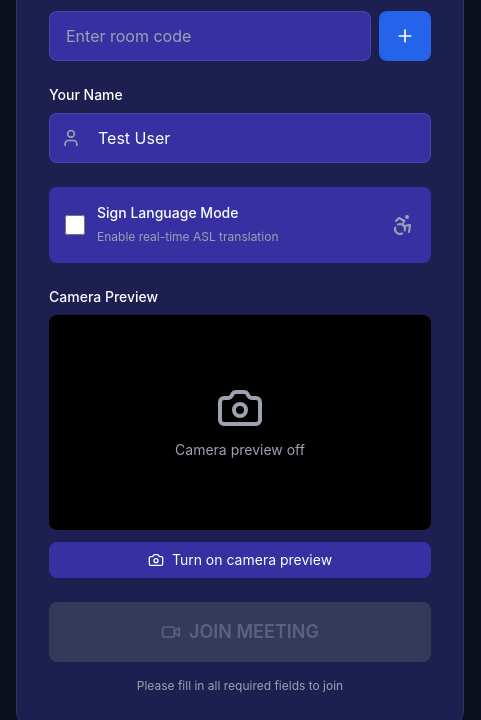
Test: Preservation Property Tests - Non-Camera Functionality › PRESERVATION: Camera not found error handling
(page scrolled)
Click the button "Turn on camera preview".
click(240, 560)  # box [49,542,431,578]
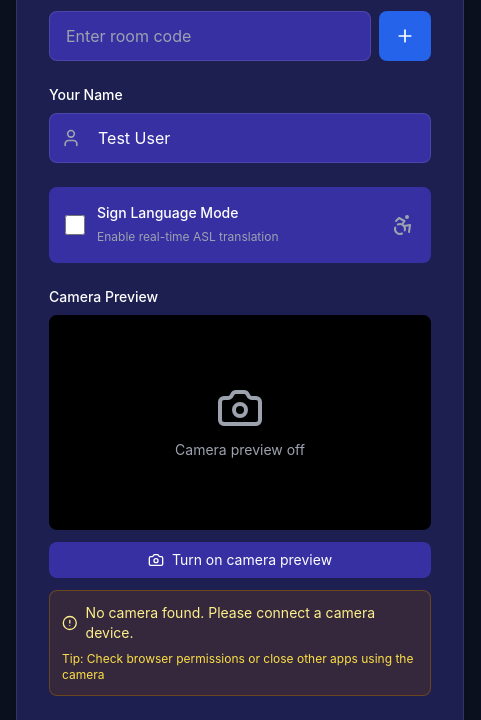
Result: the text "No camera found. Please connect a camera device." is shown at [62,603,418,643]
